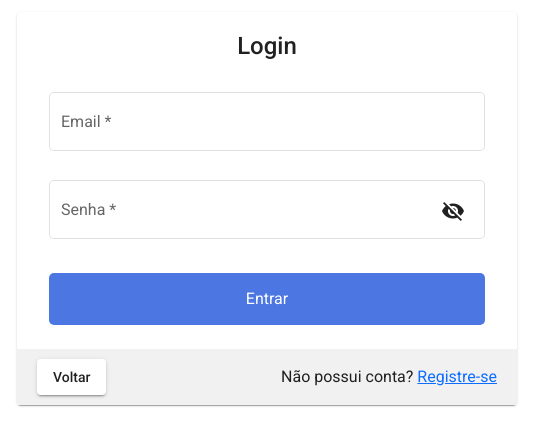
Scenario: Teste de GUI do componente de login › Clicando no botão de entrar sem dados
Click the button "Entrar": (267, 299) [49, 273, 485, 325]
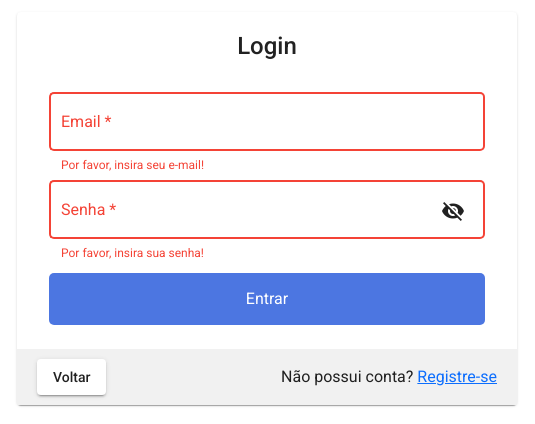
Expected: the text "Por favor, insira seu e-mail!" is shown, [61, 158, 204, 172]
Expected: the text "Por favor, insira sua senha!" is shown, [61, 247, 204, 260]
